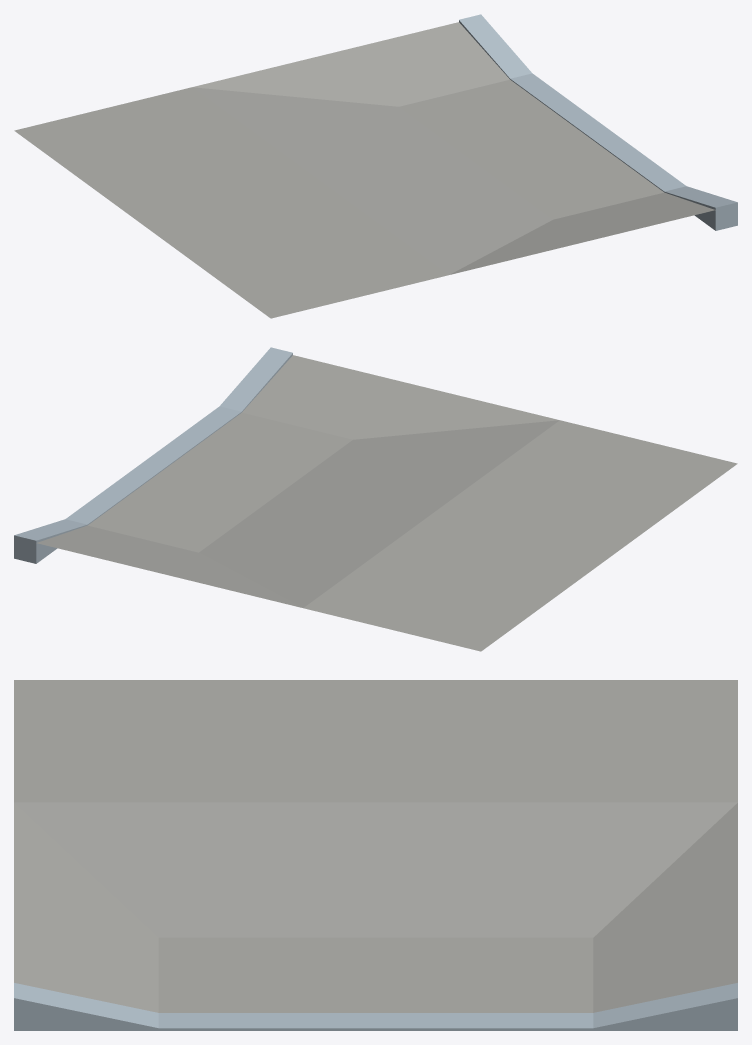
File: Walkroad_3type.FBX
3 renders of one model, top to bottom at view 1: azimuth 30°, elevation 25°; view 2: azimuth 150°, elevation 25°; view 3: azimuth 270°, elevation 25°, orthographic. The views are drawn at different scales.
Visible parts, largest first — view 1: Walkroad_3type (×8); view 2: Walkroad_3type (×8); view 3: Walkroad_3type (×8).
Boxes of the visible parts, x1,y1,x2,y2 form: Walkroad_3type (×8): [14, 14, 737, 318]; Walkroad_3type (×8): [14, 347, 737, 651]; Walkroad_3type (×8): [14, 680, 737, 1030].
Size of the model in its own units: 525 by 25 by 500.
